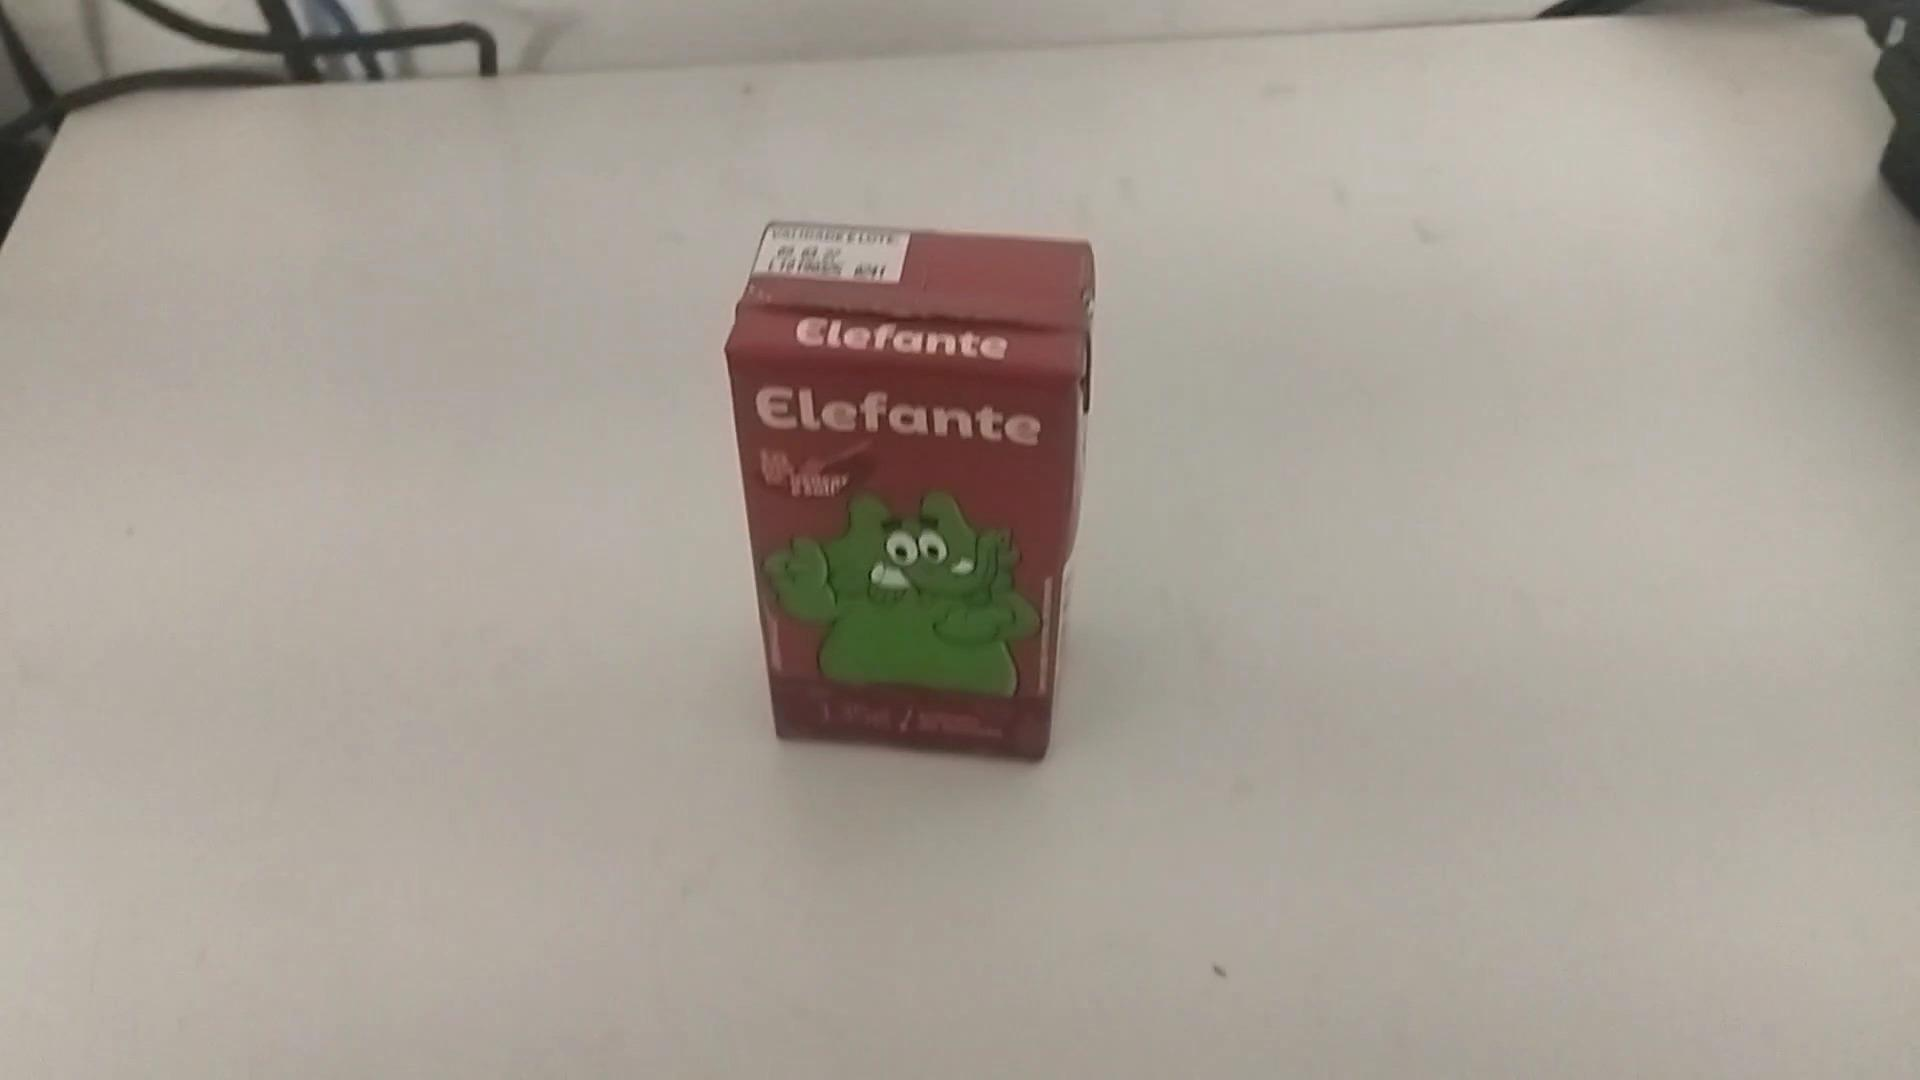tomate: (723, 220, 1104, 770)
